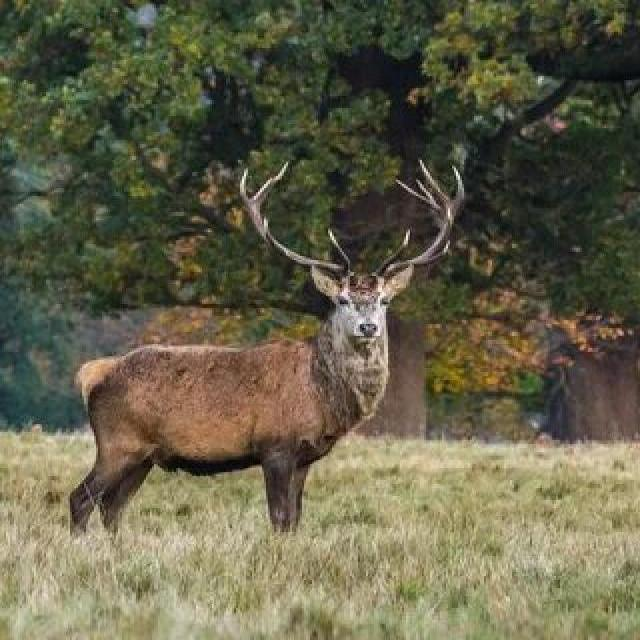deer: (39, 162, 491, 573)
